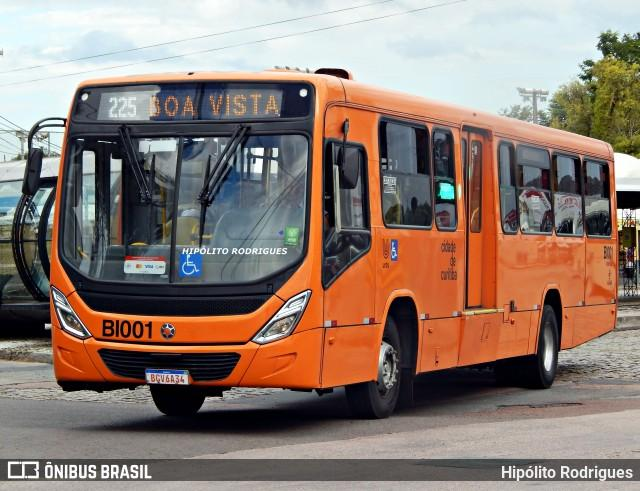BOA VISTA: (144, 89, 284, 119)
